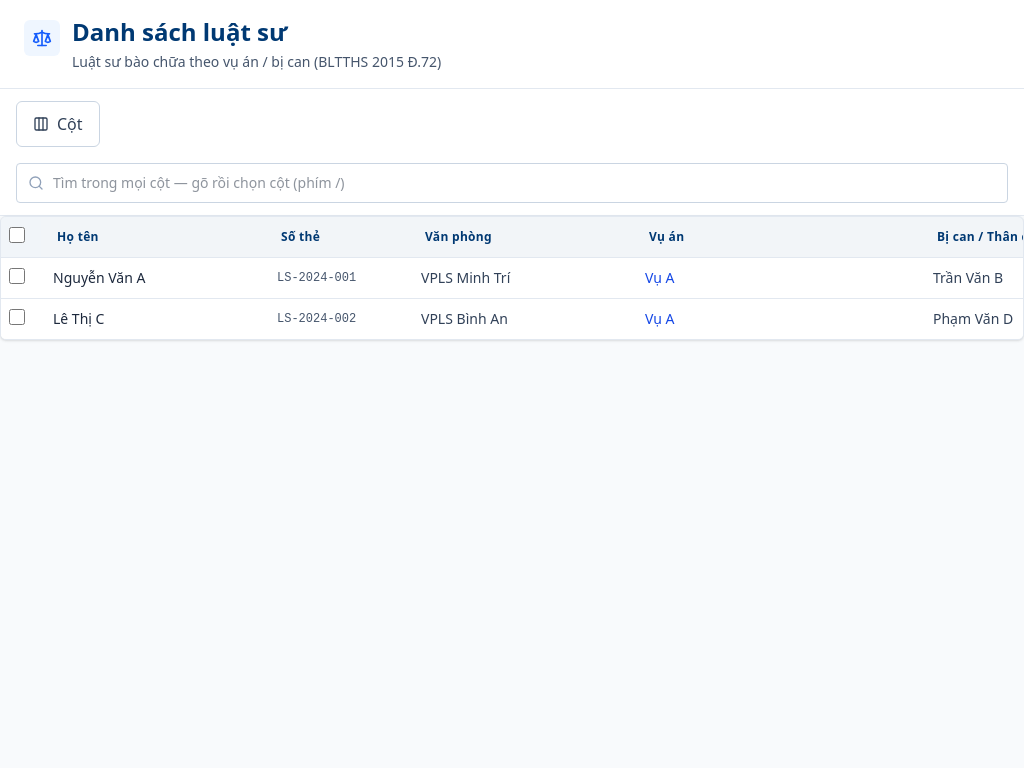
Scenario: LawyerListPageShell — bulk selection (plan PR4 mandatory) › select-all checkbox in header → both rows selected → BulkActionBar shows count
The width and height of the screenshot is (1036, 768).
Expected: the text "Nguyễn Văn A" is shown, [41, 258, 265, 298]
Click the checkbox named "Chọn tất cả luật sư trong trang" at (17, 235), box [9, 227, 25, 243]
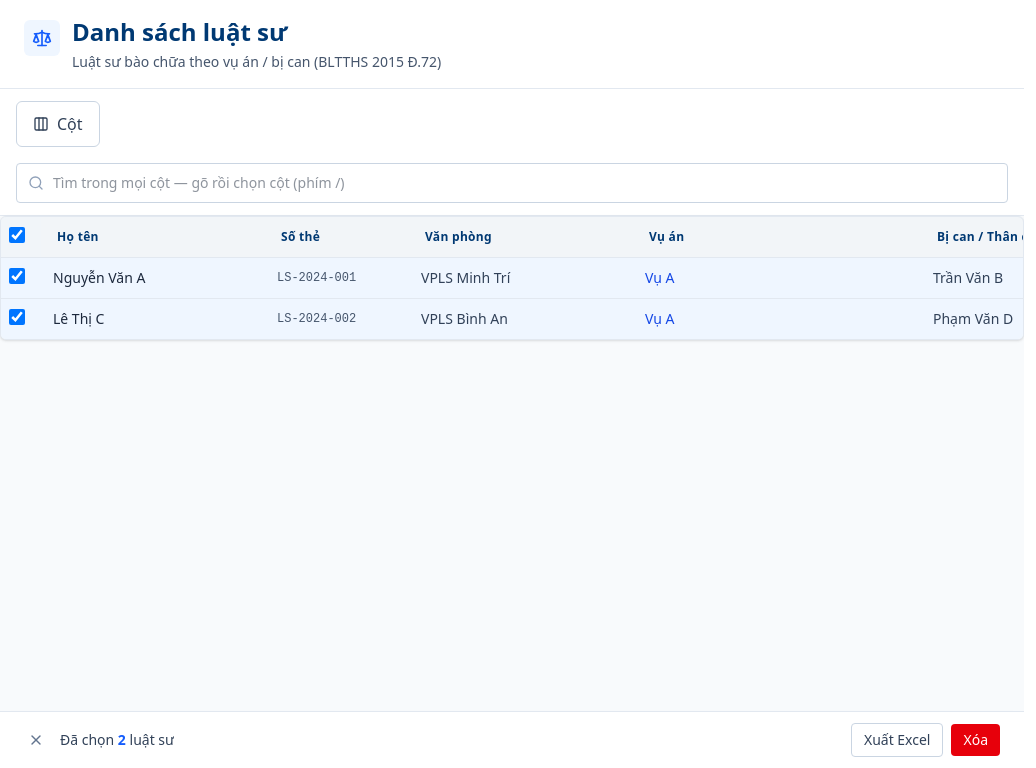
Expected: the message "Đã chọn 2 luật sư Xuất Excel Xóa" is shown, [0, 711, 1024, 767]
